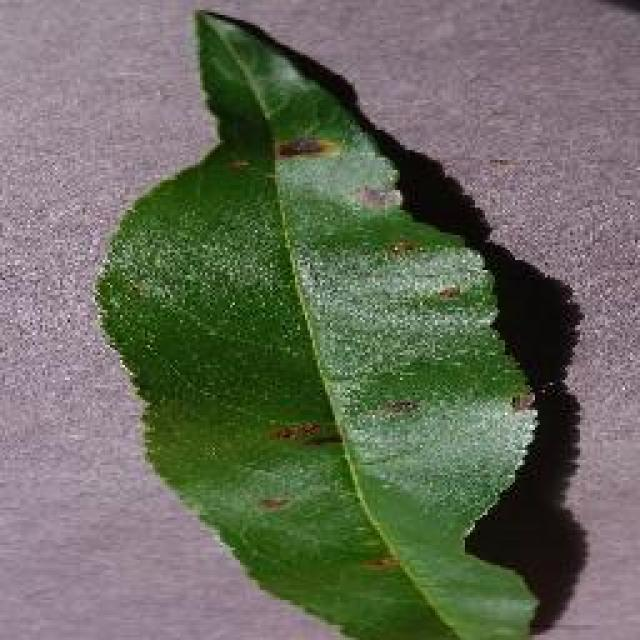Peach_Bacterial_Spot: (252, 102, 535, 513)
